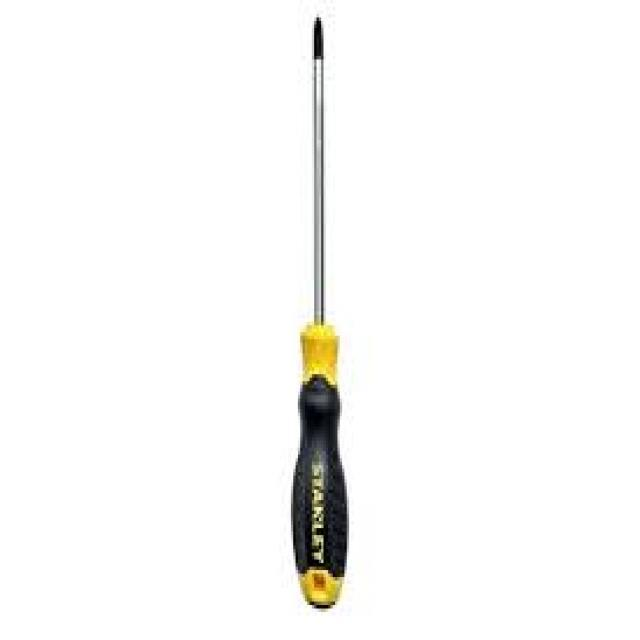screwdriver: (290, 12, 350, 614)
